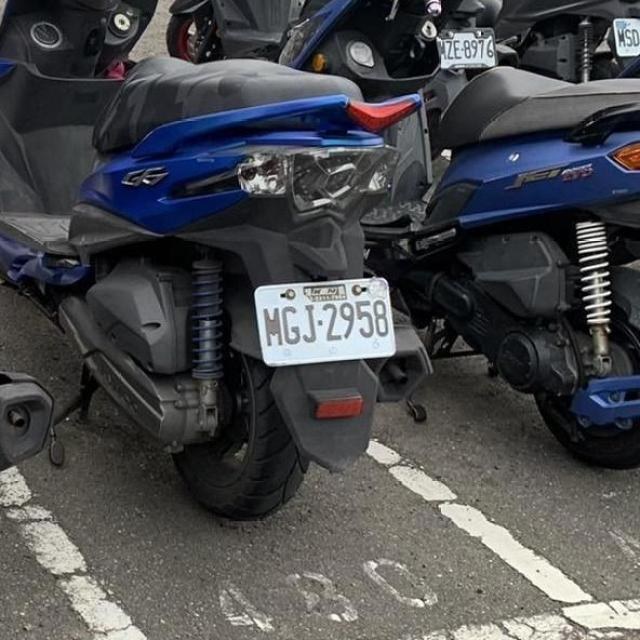W: (254, 276, 399, 368), (433, 27, 503, 74)
